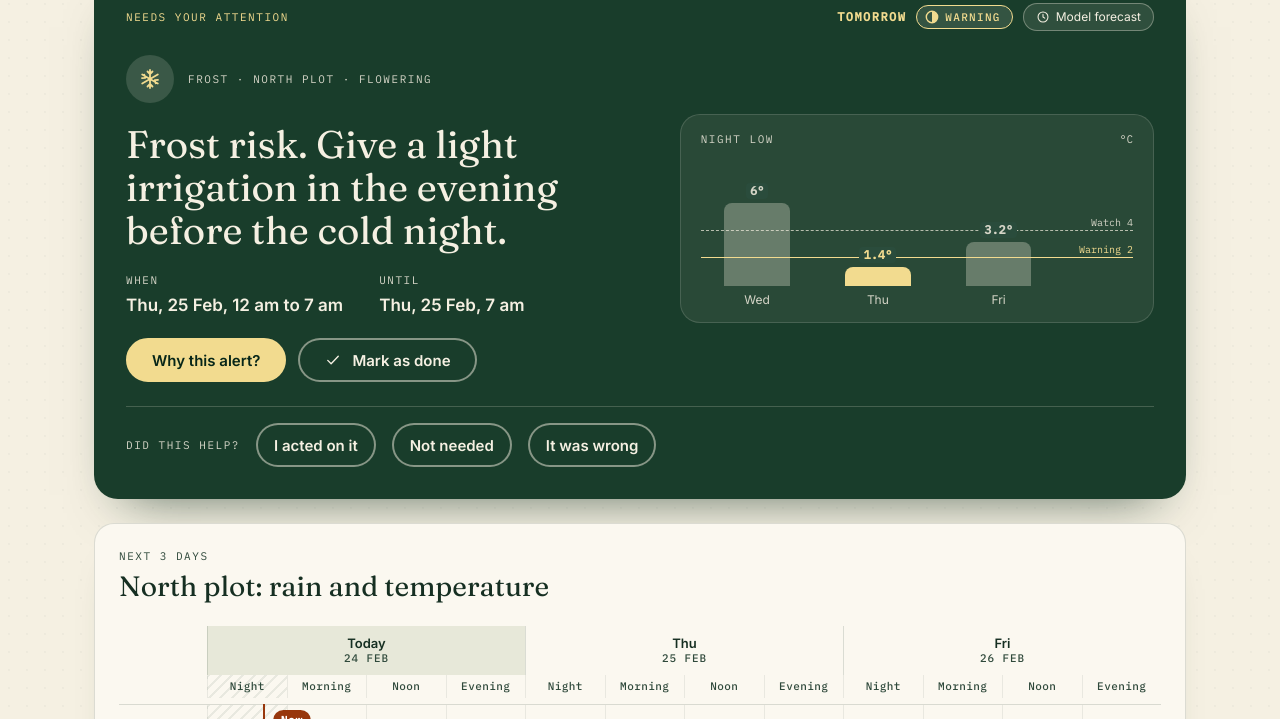
Test: Weather & Alerts states › the main alert: action first, level in words, window, and the "why" with the numbers on demand
The width and height of the screenshot is (1280, 719).
(page scrolled)
Expected: the heading "Frost risk. Give a light irrigation in the evening" is shown, [126,120,558,254]
Expected: the text "Warning" is shown, [916,5,1013,29]
Step 1. Click the button "Why this alert?" → (206, 360), box [126,338,286,382]
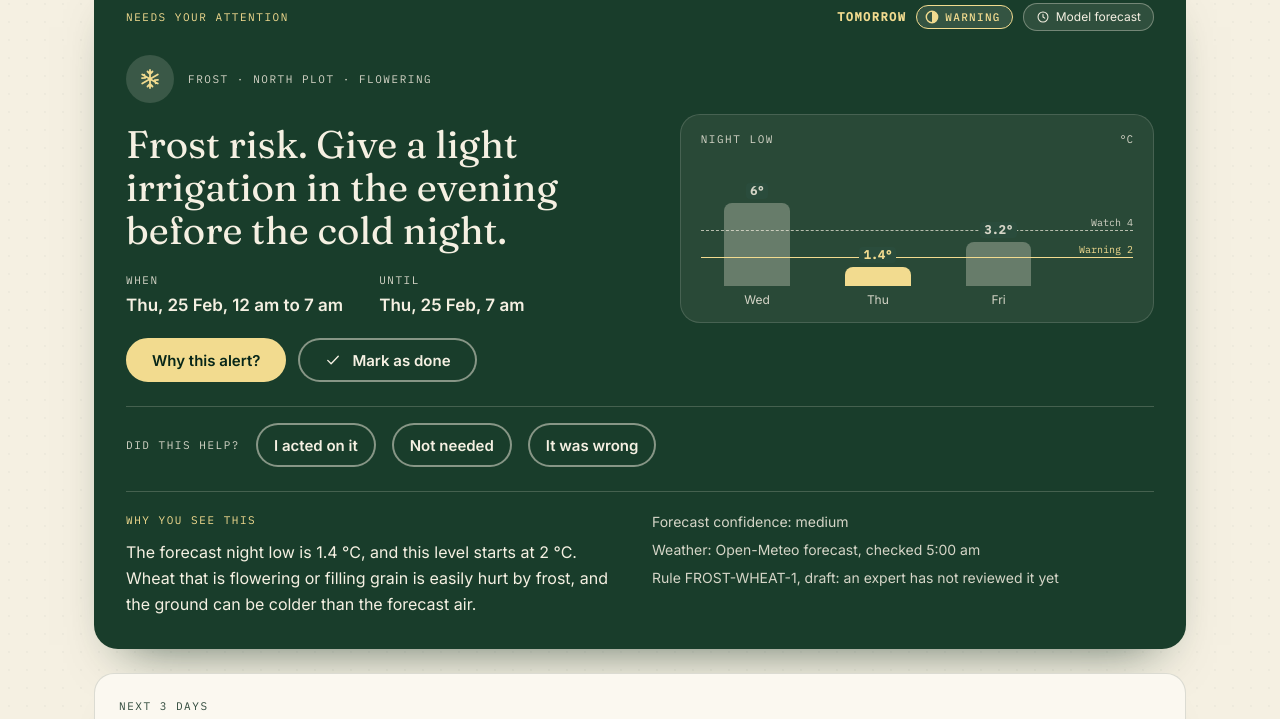
Expected: the text "forecast night low is 1.4 °C" is shown, [126,542,608,614]
Expected: the list item "Rule FROST-WHEAT-1, draft: an expert has not reviewed it yet" is shown, [652,569,1059,586]
Expected: the list item "Forecast confidence: medium" is shown, [652,513,848,530]
Step 2. Click the button "Why this alert?" → (206, 360), box [126,338,286,382]
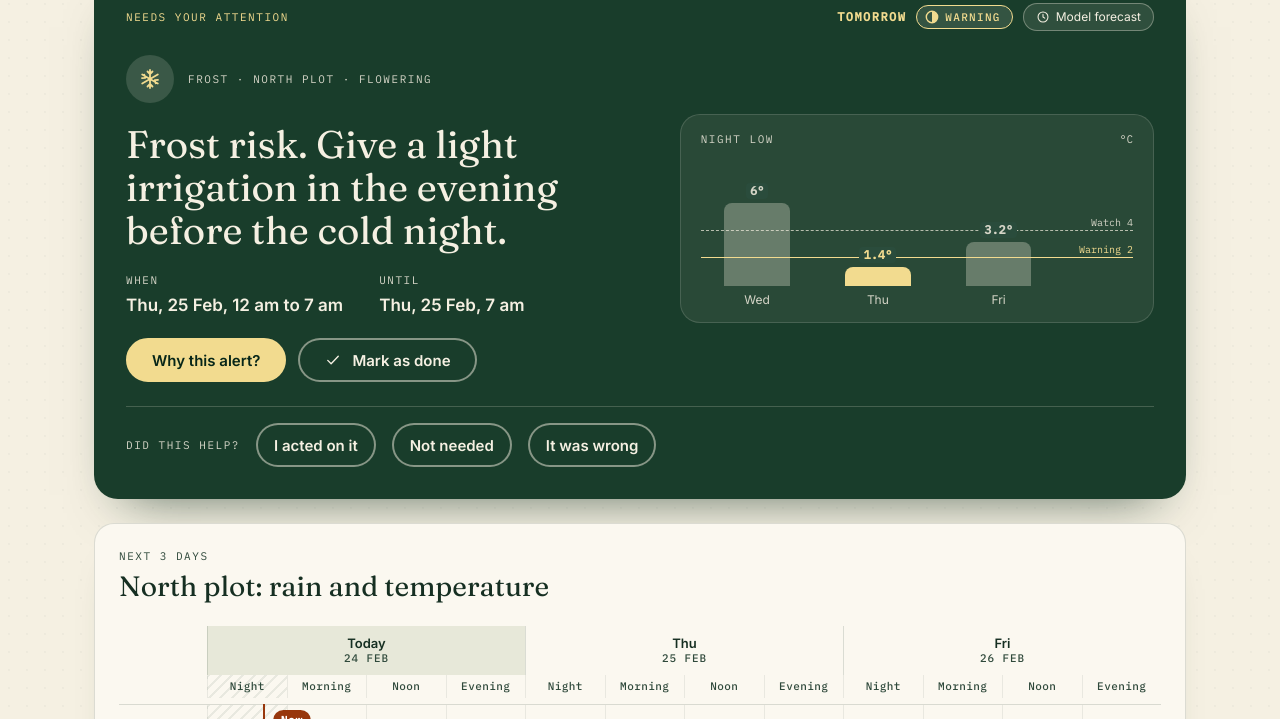
Expected: the list item "Rule FROST-WHEAT-1" is gone
